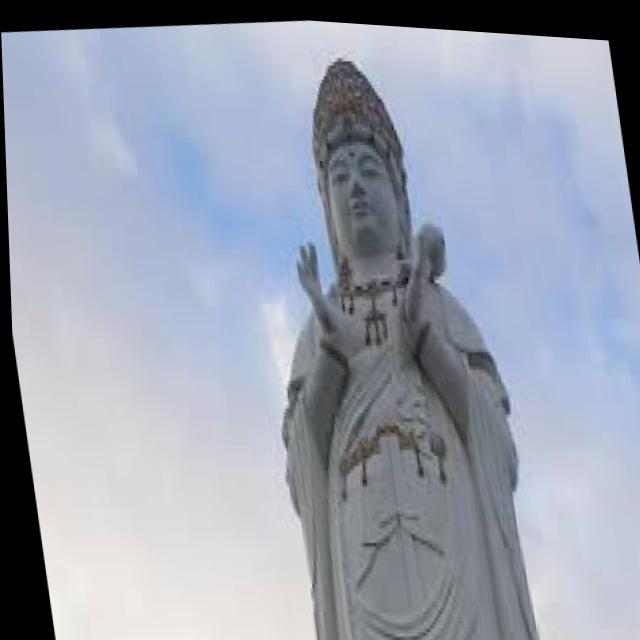Guan Yin: (230, 29, 526, 555)
